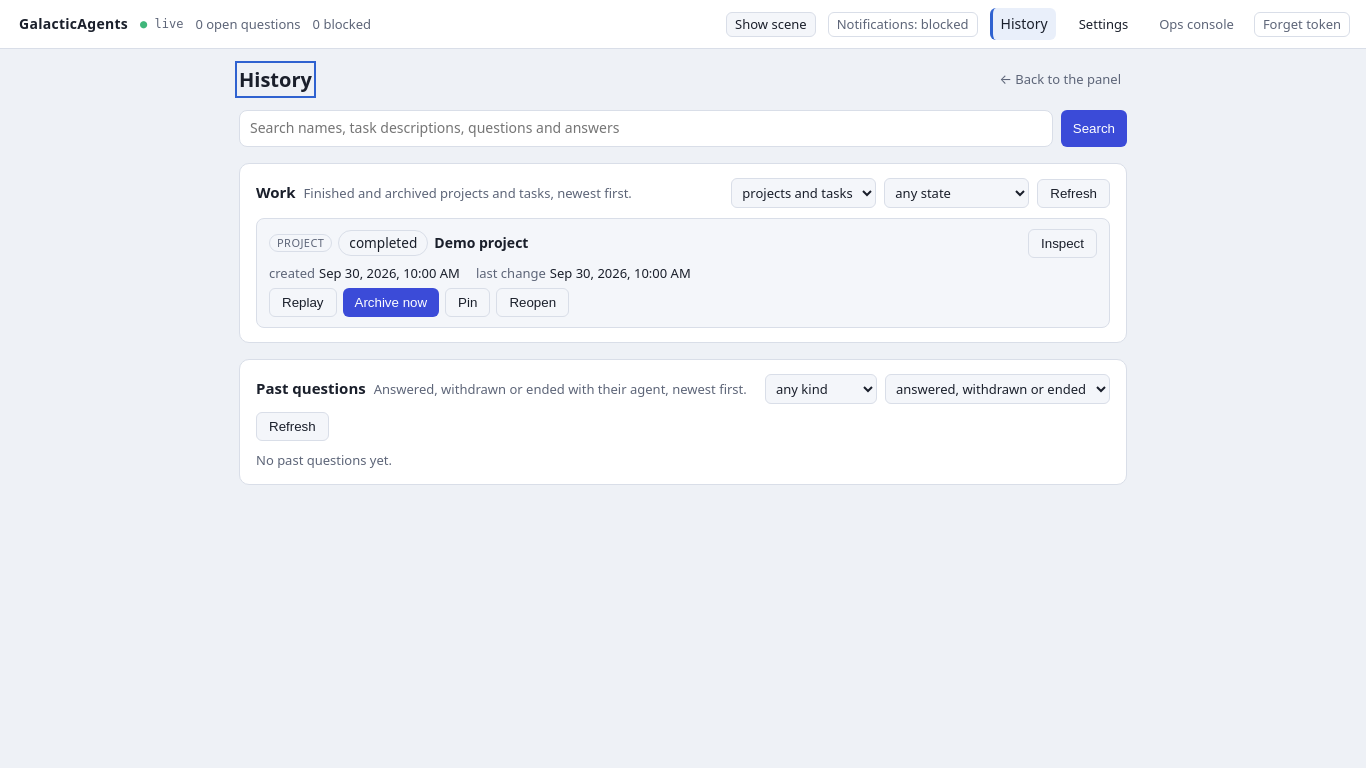
timeline scrubber UI (P4-07) › Escape exits from anywhere on the page, after fields, dialogs and menus (review S4)
Click the button "Replay" at point(303, 303), box [269,288,336,317]
(page scrolled)
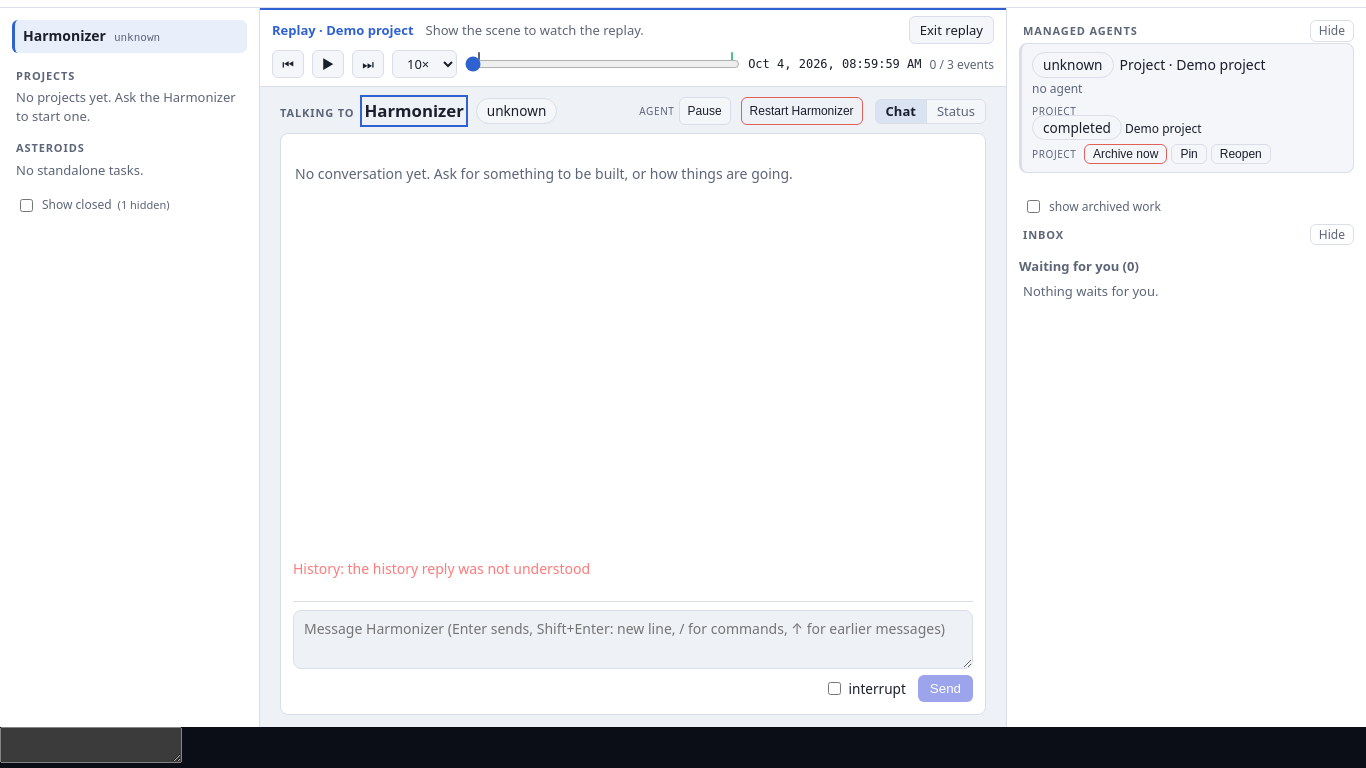
Now the element "Replay · Demo project" is shown, box [260,8,1006,87]
Press Escape in the 2nd text box, box [0,727,182,763]
Now the element "Replay · Demo project" is shown, box [260,8,1006,87]
Press Escape
(page scrolled)
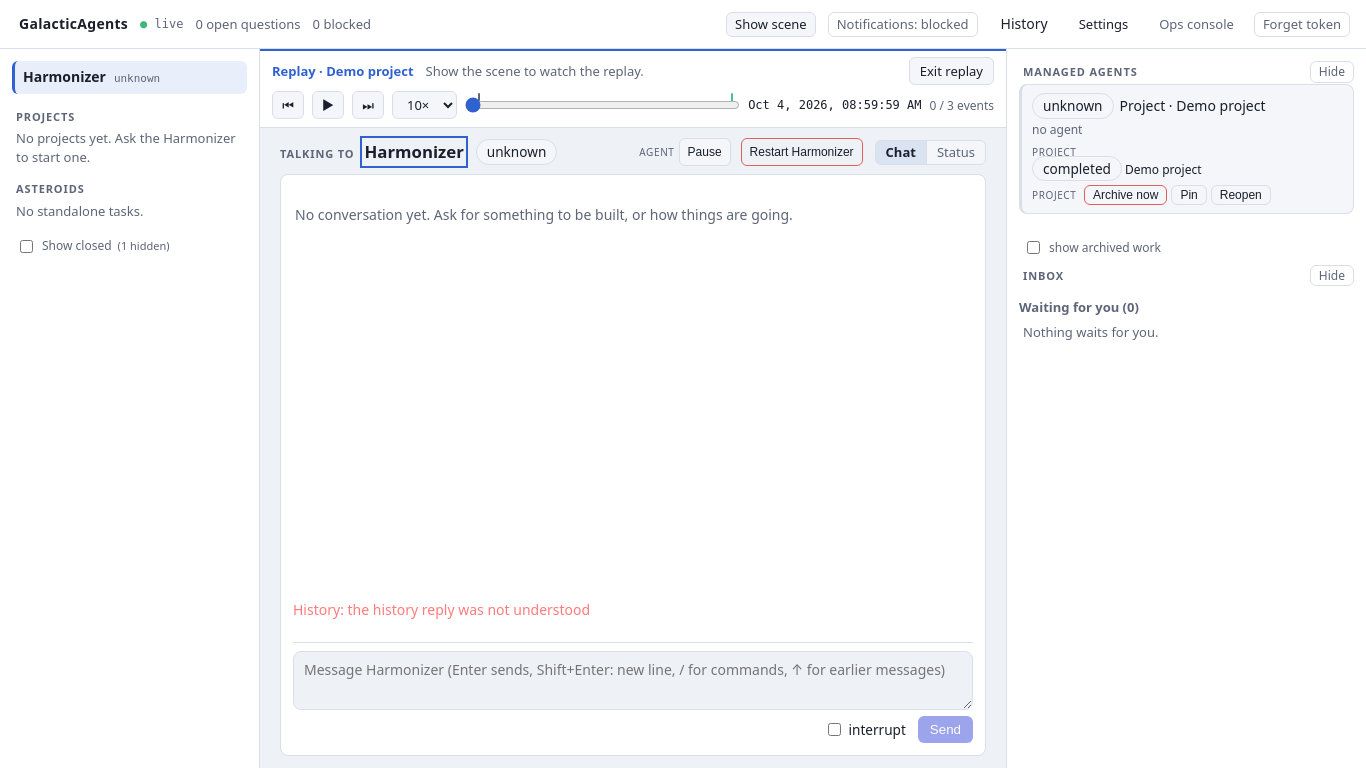
Now the element "Replay · Demo project" is shown, box [260,49,1006,128]
# Focus nowhere in particular (not in the bar): Escape exits.
Press Escape
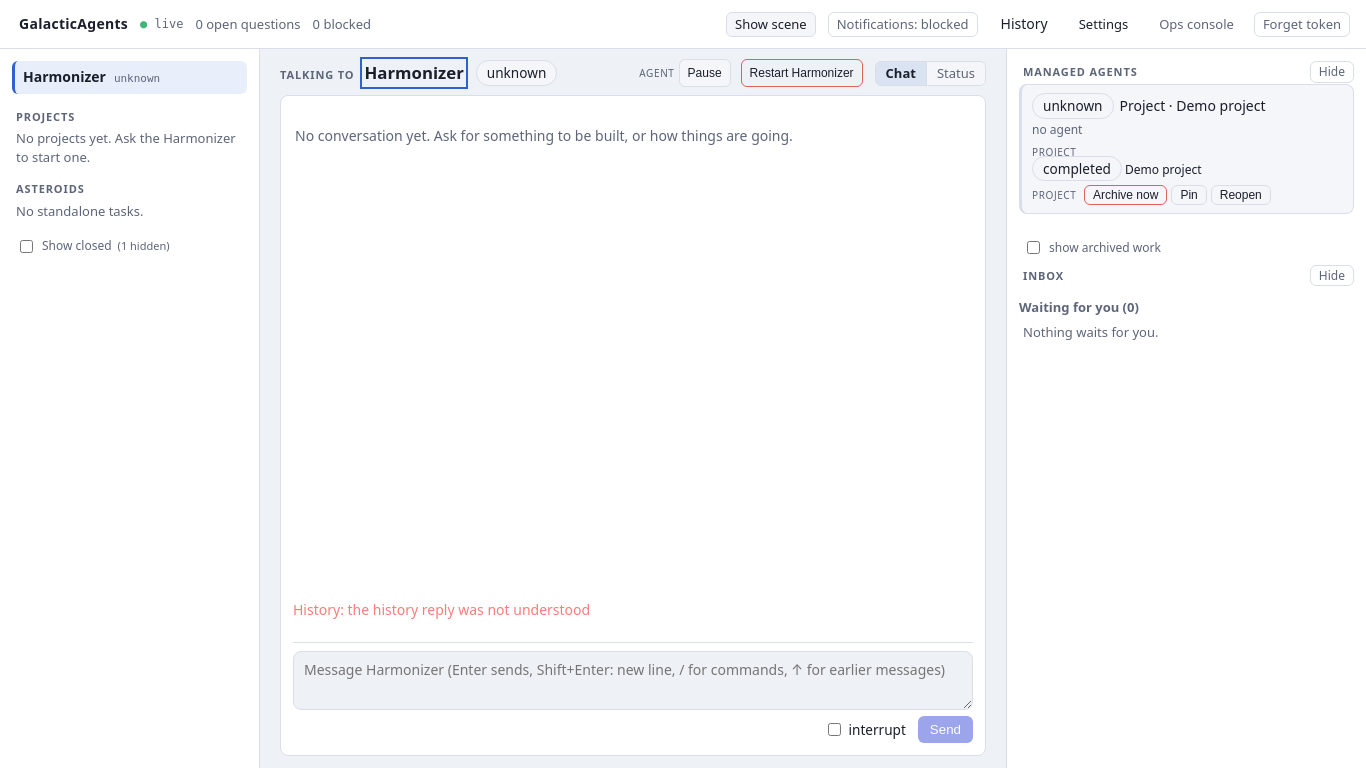
Now the text "Replay · Demo project" is gone
